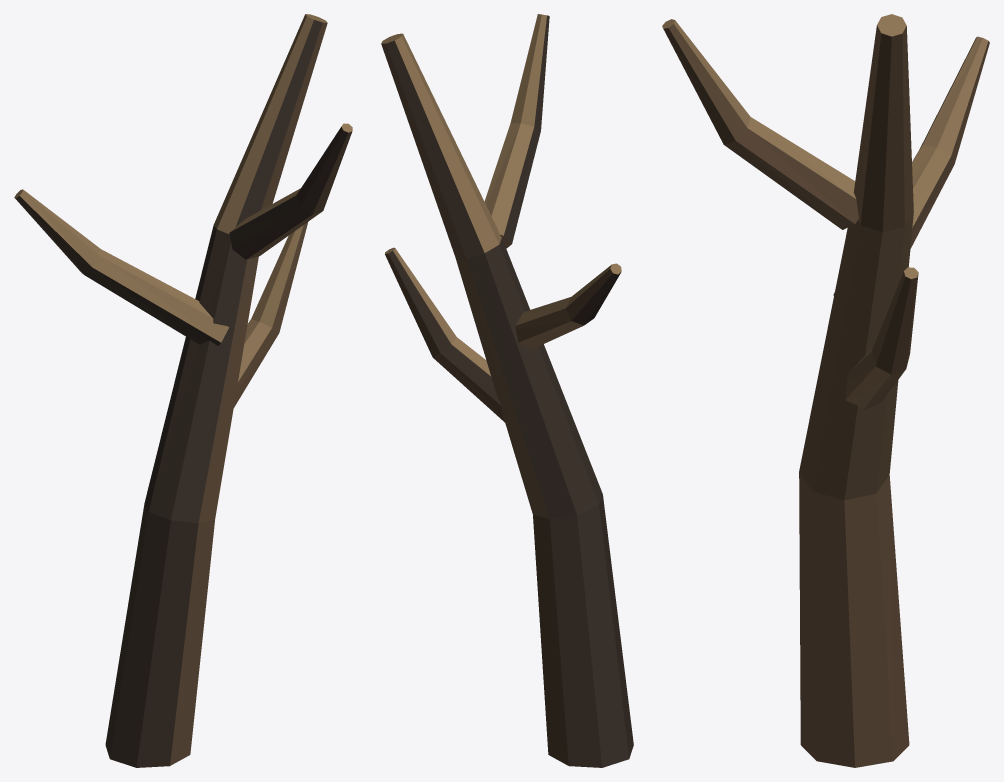
Rendered from TW_TREE_DEAD_LEAN_B_LOD0.glb.
3 renders of one model, left to right at view 1: azimuth 30°, elevation 25°; view 2: azimuth 150°, elevation 25°; view 3: azimuth 270°, elevation 25°, orthographic. The views are drawn at different scales.
Parts seen in each view (by area): view 1: TW_TREE_DEAD_LEAN_B_LOD0; view 2: TW_TREE_DEAD_LEAN_B_LOD0; view 3: TW_TREE_DEAD_LEAN_B_LOD0.
Boxes of the visible parts, x1,y1,x2,y2 form: TW_TREE_DEAD_LEAN_B_LOD0: [14, 14, 352, 767]; TW_TREE_DEAD_LEAN_B_LOD0: [381, 14, 633, 767]; TW_TREE_DEAD_LEAN_B_LOD0: [662, 14, 989, 767].
Bounding box in the file's own units: 1.27 × 3.01 × 1.07.
Materials: 1 (1 with a texture image).
